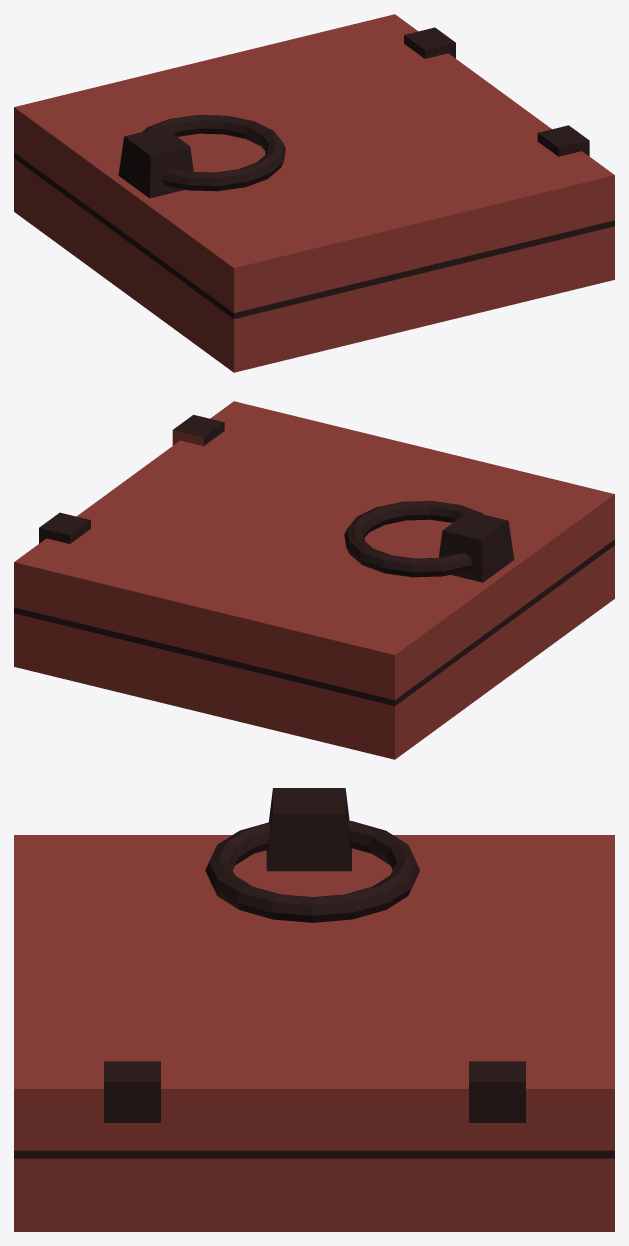
File: F_HatchMiniGra.fbx
The picture shows the model from 3 angles, top to bottom: view 1: azimuth 30°, elevation 25°; view 2: azimuth 150°, elevation 25°; view 3: azimuth 270°, elevation 25°; orthographic projection. The views are drawn at different scales.
Parts seen in each view (by area): view 1: F_HatchMiniGra; view 2: F_HatchMiniGra; view 3: F_HatchMiniGra.
Boxes of the visible parts, x1=… form: F_HatchMiniGra: x1=14, y1=14, x2=614, y2=372; F_HatchMiniGra: x1=14, y1=401, x2=614, y2=759; F_HatchMiniGra: x1=14, y1=788, x2=614, y2=1231.
Size of the model in its own units: 20.71 by 7.37 by 20.31.
